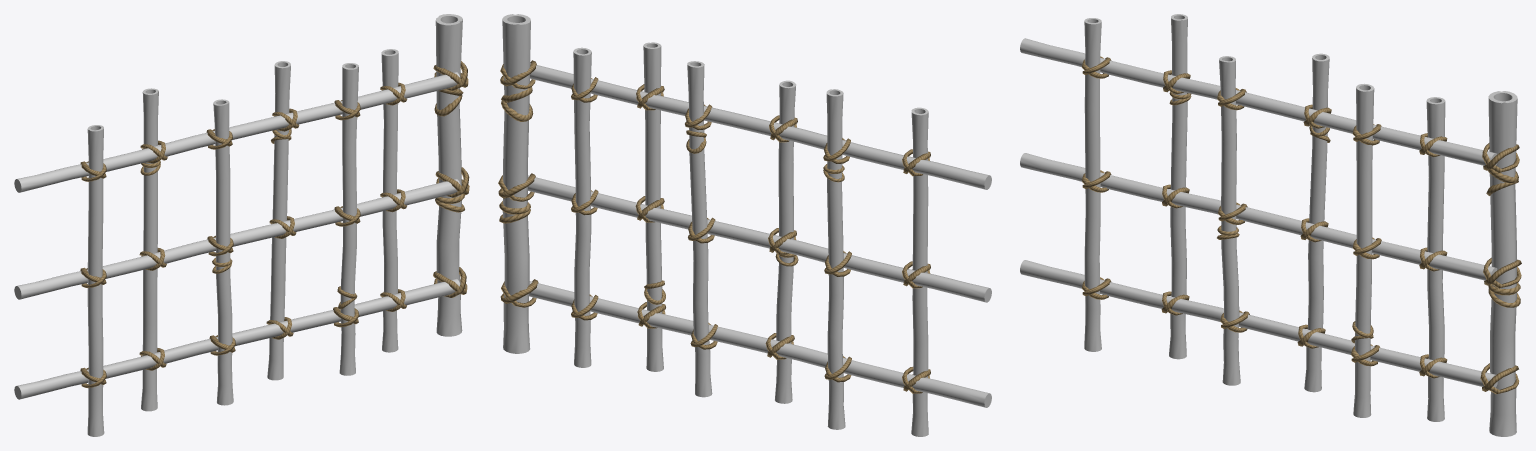
File: SM_EastLands_BambooFence_A_02.fbx
3 renders of one model, left to right at view 1: azimuth 30°, elevation 25°; view 2: azimuth 150°, elevation 25°; view 3: azimuth 330°, elevation 25°, orthographic. The views are drawn at different scales.
Visible parts, largest first — view 1: SM_EastLands_BambooFence_A_02_LOD0; view 2: SM_EastLands_BambooFence_A_02_LOD0; view 3: SM_EastLands_BambooFence_A_02_LOD0.
Part boxes in pixels (bbox=[...]): SM_EastLands_BambooFence_A_02_LOD0: bbox=[14, 14, 469, 436]; SM_EastLands_BambooFence_A_02_LOD0: bbox=[498, 14, 991, 436]; SM_EastLands_BambooFence_A_02_LOD0: bbox=[1020, 14, 1521, 436].
Bounding box in the file's own units: 206 × 137 × 22.56.
